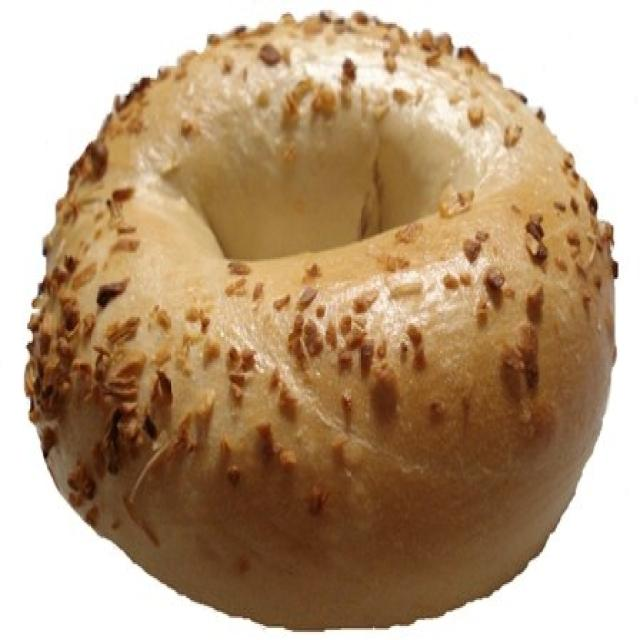面包点心: (15, 8, 626, 634)
